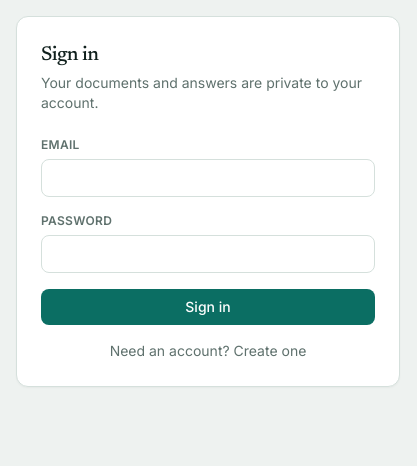
AuthView › clears a stale error when switching modes
Check: the heading "Sign in" is shown, box [41, 45, 98, 65]
Type "ada@example.com" into the field labelled "Email". click: (208, 178)
box: [41, 159, 375, 197]
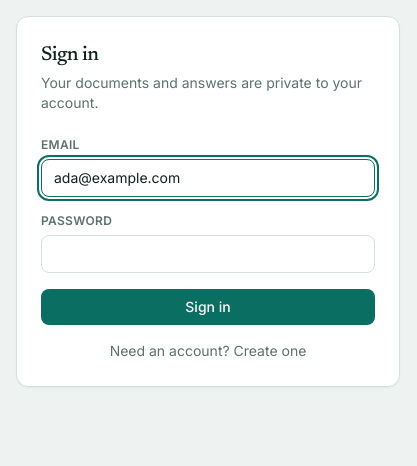
Type "wrong-horse" into the password field labelled "Password". click: (208, 254)
box: [41, 235, 375, 273]
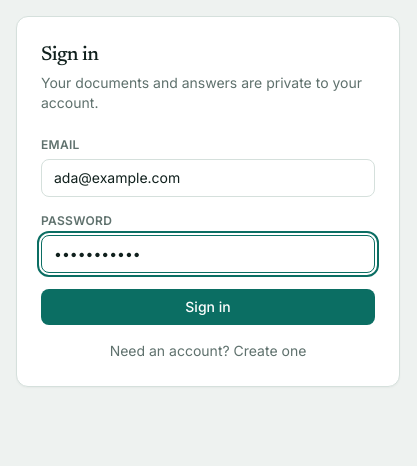
Click the button "Sign in". click: (208, 307)
box: [41, 289, 375, 325]
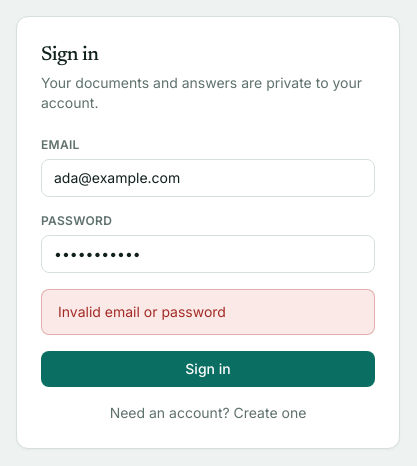
Check: the message "Invalid email or password" is shown, box [41, 289, 375, 335]
Click the button "Need an account? Create one". click: (208, 413)
box: [41, 403, 375, 423]
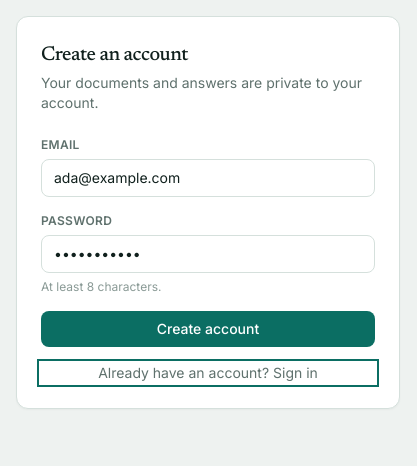
Check: the message "Invalid email or password" is gone
